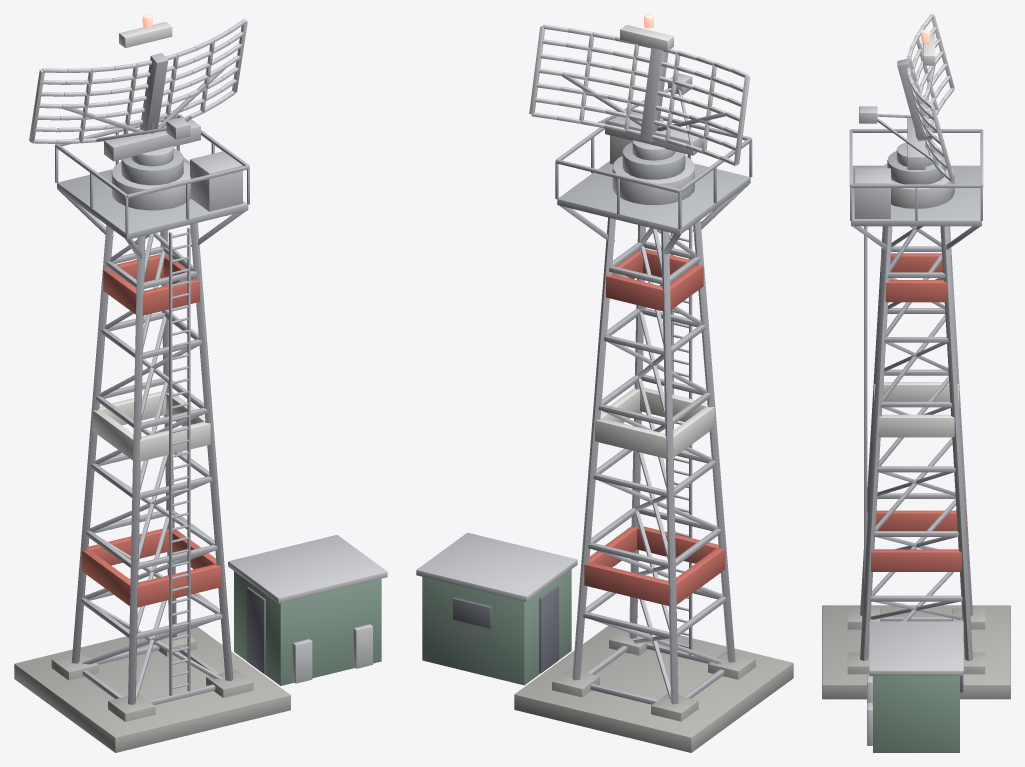
Rendered from th25_radarturm.glb.
3 renders of one model, left to right at view 1: azimuth 30°, elevation 25°; view 2: azimuth 150°, elevation 25°; view 3: azimuth 270°, elevation 25°, orthographic. The views are drawn at different scales.
Parts seen in each view (by area): view 1: Cube, Cube.260, Cube.261, Cube.121, Cube.002, Cube.006, Cube.004, Cube.142, Cube.110, Cylinder, Cube.069, Cube.070 (+19 smaller); view 2: Cube, Cube.260, Cube.261, Cube.121, Cube.004, Cube.008, Cube.002, Cube.112, Cylinder, Cube.116, Cube.262, Cube.255 (+18 smaller); view 3: Cube, Cube.260, Cube.261, Cube.006, Cube.008, Cube.121, Cube.111, Cube.115, Cube.142, Cube.109, Cube.119, Cylinder (+32 smaller).
Boxes of the visible parts, x1,y1,x2,y2 form: Cube: [14, 627, 290, 752]; Cube.260: [234, 571, 381, 685]; Cube.261: [228, 535, 387, 603]; Cube.121: [57, 157, 248, 239]; Cube.002: [128, 235, 145, 704]; Cube.006: [190, 222, 233, 680]; Cube.004: [71, 225, 113, 663]; Cube.142: [190, 151, 242, 211]; Cube.110: [137, 564, 221, 607]; Cylinder: [111, 162, 190, 210]; Cube.069: [169, 232, 172, 695]; Cube.070: [187, 227, 190, 691]; Cube: [514, 625, 793, 752]; Cube.260: [422, 569, 571, 685]; Cube.261: [416, 532, 577, 601]; Cube.121: [557, 161, 750, 234]; Cube.004: [661, 230, 678, 704]; Cube.008: [572, 217, 615, 680]; Cube.002: [693, 220, 735, 662]; Cube.112: [584, 562, 669, 606]; Cylinder: [612, 156, 694, 204]; Cube.116: [595, 418, 666, 458]; Cube.262: [539, 585, 558, 673]; Cube.255: [640, 47, 668, 141]; Cube: [822, 605, 1010, 699]; Cube.260: [873, 676, 959, 752]; Cube.261: [869, 621, 963, 675]; Cube.006: [860, 226, 892, 660]; Cube.008: [940, 226, 972, 660]; Cube.121: [851, 165, 981, 226]; Cube.111: [871, 549, 961, 571]; Cube.115: [878, 414, 954, 437]; Cube.142: [854, 168, 890, 218]; Cube.109: [875, 510, 957, 530]; Cube.119: [885, 280, 947, 302]; Cylinder: [881, 163, 954, 208].
Bounding box in the file's own units: 9.27 × 19.1 × 5.2.
